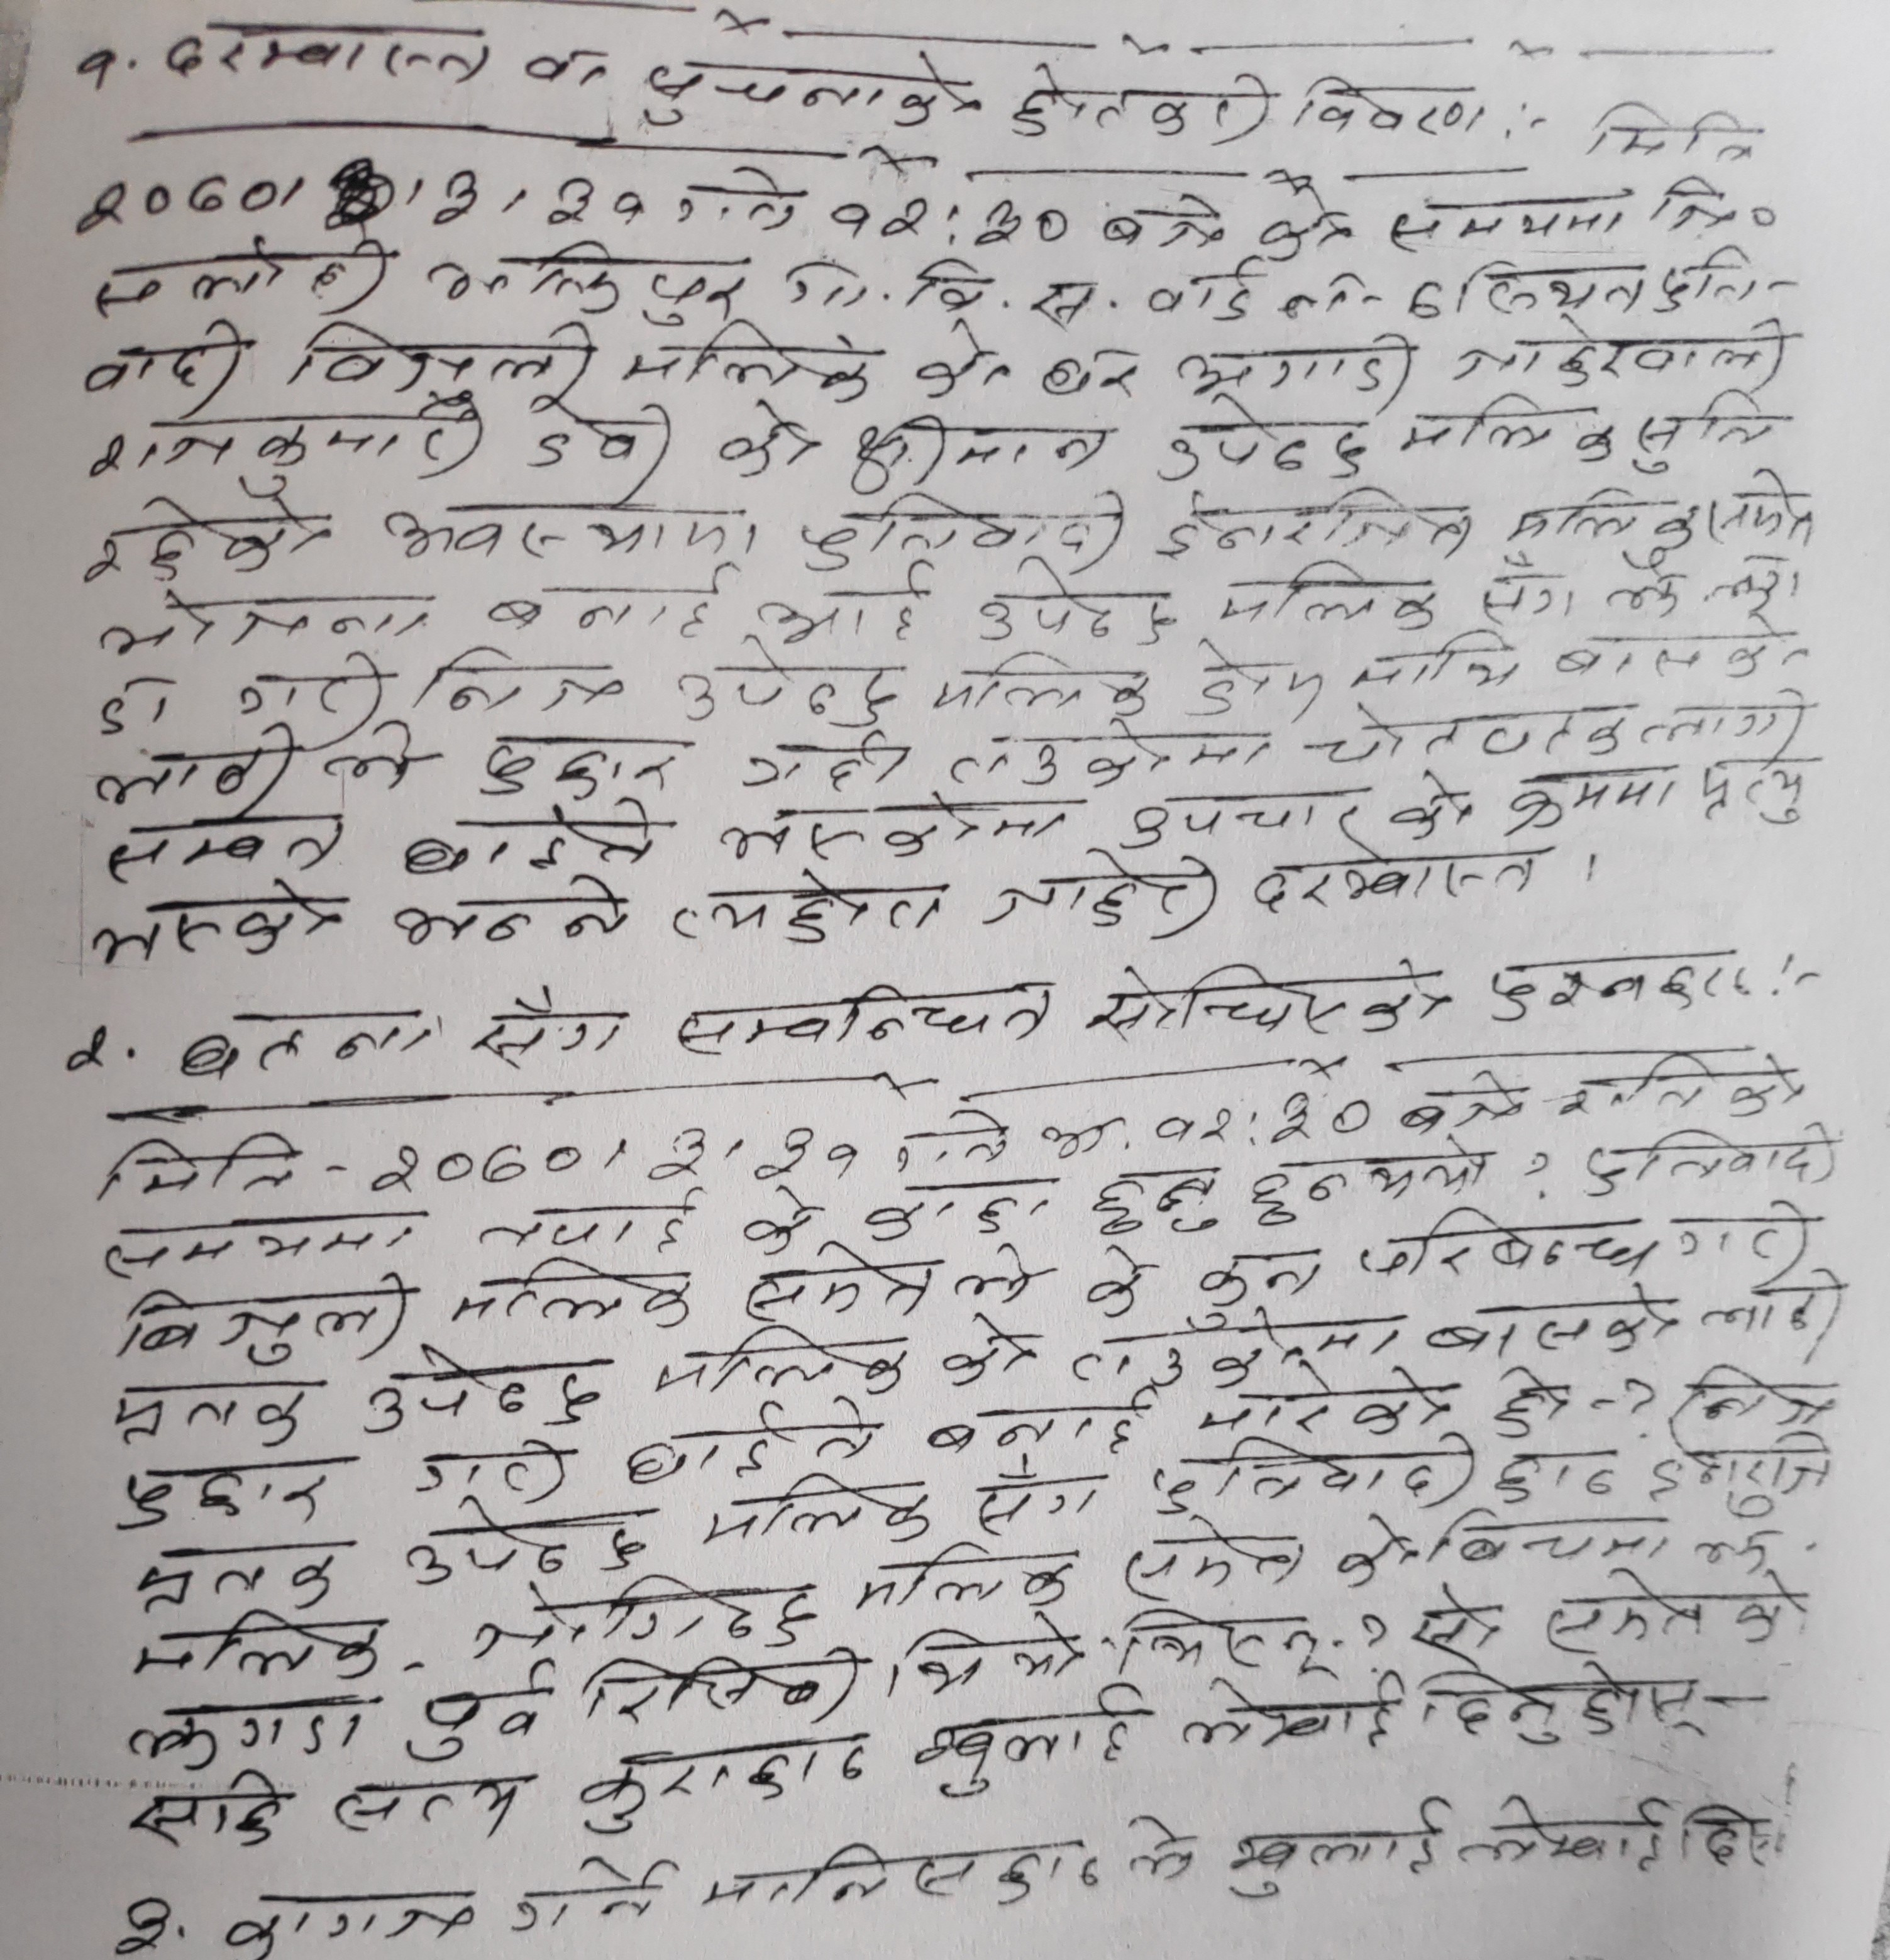text: (72, 157, 656, 236), (86, 395, 485, 497), (360, 1122, 870, 1192), (698, 1834, 1104, 1920), (675, 971, 1057, 1057), (1080, 954, 1458, 1038), (108, 1272, 408, 1372), (572, 1732, 877, 1830), (423, 238, 754, 325), (640, 51, 976, 136), (86, 229, 397, 318), (381, 495, 765, 567), (716, 787, 1080, 863), (941, 710, 1274, 793), (1445, 310, 1790, 388), (467, 1578, 828, 1654), (1157, 1435, 1484, 1517), (912, 1687, 1148, 1801), (793, 488, 1130, 567), (586, 1641, 866, 1736), (1004, 56, 1276, 152), (1419, 1661, 1704, 1752), (1151, 486, 1479, 565), (290, 317, 591, 401), (777, 252, 1104, 329), (156, 17, 495, 91), (1223, 1792, 1456, 1899), (94, 583, 439, 654), (1351, 1200, 1657, 1281), (1538, 1571, 1811, 1661), (621, 318, 880, 411), (971, 843, 1225, 938), (668, 866, 950, 950), (362, 1342, 611, 1435), (100, 1209, 427, 1279), (177, 1003, 436, 1090), (86, 878, 339, 968), (849, 409, 1111, 495), (402, 1493, 654, 1582), (483, 558, 742, 644), (619, 1405, 880, 1489), (1297, 702, 1633, 766), (79, 493, 327, 581), (1244, 847, 1540, 919), (1417, 1281, 1682, 1358), (670, 639, 896, 728), (402, 801, 654, 880), (1148, 397, 1370, 486), (124, 1608, 385, 1683), (453, 1253, 696, 1333), (698, 1470, 936, 1552), (1171, 325, 1419, 404), (1584, 1123, 1837, 1200), (976, 558, 1181, 653), (1181, 1673, 1410, 1757), (388, 875, 632, 954), (922, 1384, 1155, 1466), (101, 808, 350, 885), (1486, 954, 1757, 1024), (649, 1326, 913, 1398), (1452, 1794, 1669, 1879), (1421, 1500, 1678, 1571), (397, 1657, 570, 1762), (1116, 1507, 1311, 1599), (220, 1890, 478, 1960), (103, 1370, 322, 1452), (1391, 388, 1619, 467), (124, 1697, 378, 1767), (887, 1612, 1083, 1701), (1549, 616, 1811, 682), (105, 1459, 345, 1531), (1113, 1606, 1340, 1682), (1647, 1426, 1837, 1515), (1122, 782, 1375, 849), (1382, 187, 1633, 254), (91, 726, 297, 807), (1561, 1052, 1809, 1118), (824, 187, 1076, 252), (100, 1129, 306, 1207), (1218, 558, 1438, 632), (850, 1542, 1076, 1613), (471, 1183, 698, 1253), (331, 1773, 532, 1850), (80, 315, 254, 404), (476, 728, 686, 801), (927, 651, 1158, 717), (1619, 383, 1783, 476), (1493, 481, 1703, 553), (742, 1253, 934, 1330), (418, 646, 625, 717), (754, 562, 936, 642), (129, 1540, 341, 1608), (502, 1853, 677, 1935), (1193, 1382, 1449, 1438), (471, 985, 626, 1076), (518, 402, 675, 492), (1290, 73, 1489, 143), (126, 1767, 289, 1853), (1066, 1330, 1298, 1389), (1150, 1090, 1381, 1150), (1694, 1263, 1850, 1349), (1244, 1148, 1489, 1202), (738, 726, 912, 801), (1584, 96, 1760, 170), (1342, 626, 1524, 696), (1638, 682, 1811, 756), (1181, 633, 1326, 721), (1494, 765, 1680, 833), (1452, 257, 1647, 320), (962, 1452, 1108, 1536), (231, 651, 385, 728), (861, 1188, 1057, 1248), (1676, 1360, 1839, 1428), (1669, 1197, 1811, 1272), (1090, 1164, 1225, 1241), (1389, 1071, 1535, 1139), (413, 1437, 569, 1500), (668, 163, 798, 238), (1703, 469, 1823, 549), (1689, 751, 1809, 831), (885, 1108, 1020, 1179), (712, 395, 817, 485), (912, 313, 1010, 408), (1097, 187, 1230, 254), (1486, 1440, 1619, 1505), (1253, 184, 1360, 264), (1405, 1582, 1503, 1668), (1199, 1244, 1325, 1311), (934, 1305, 1036, 1388), (1640, 243, 1759, 313), (1330, 1507, 1421, 1594), (1480, 549, 1580, 628), (1139, 266, 1256, 331), (322, 719, 423, 793), (1038, 341, 1148, 408), (91, 670, 180, 745), (1489, 1358, 1571, 1438), (1388, 766, 1475, 840), (1115, 1809, 1204, 1881), (738, 1183, 822, 1258), (1605, 549, 1689, 621), (952, 1244, 1039, 1309), (1081, 1241, 1151, 1321), (1312, 1309, 1403, 1367), (110, 1886, 177, 1960), (516, 44, 614, 89), (70, 1015, 117, 1083), (73, 42, 122, 100), (1403, 273, 1449, 322)
